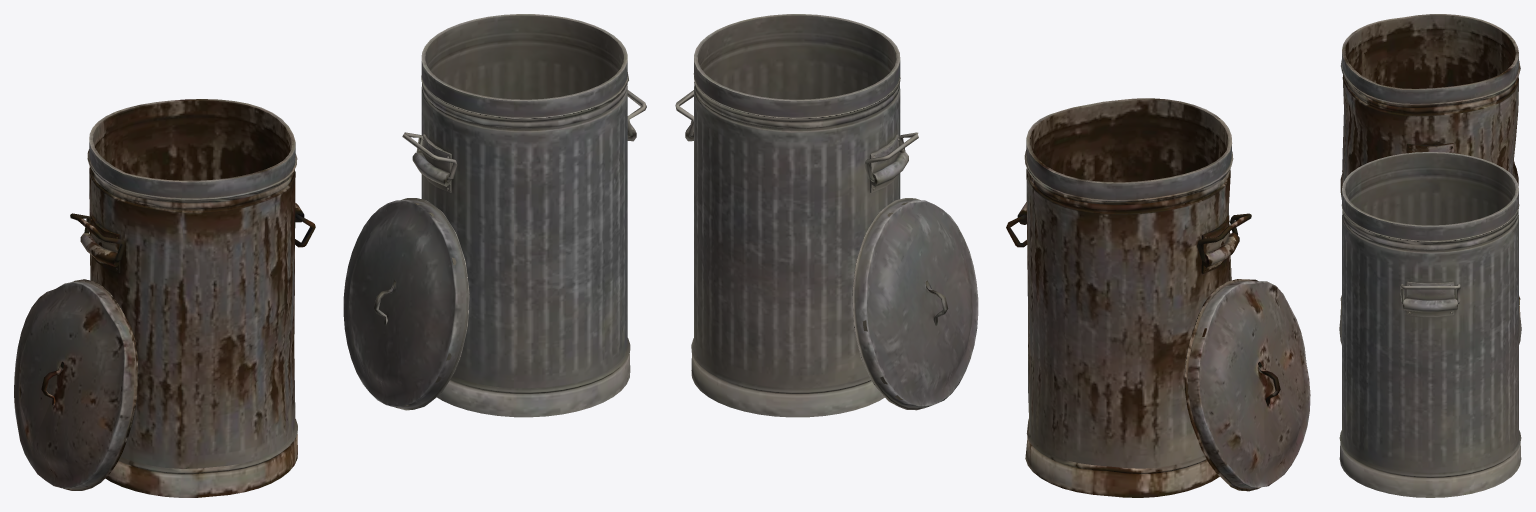
File: metal_trash_can.glb
The picture shows the model from 3 angles, left to right: view 1: azimuth 30°, elevation 25°; view 2: azimuth 150°, elevation 25°; view 3: azimuth 270°, elevation 25°; orthographic projection. The views are drawn at different scales.
Visible parts, largest first — view 1: metal_trash_can_handle_left, metal_trash_can_rust; view 2: metal_trash_can_handle_left, metal_trash_can_rust; view 3: metal_trash_can_handle_left, metal_trash_can_rust.
Boxes of the visible parts, bbox=[...] form: metal_trash_can_handle_left: bbox=[343, 14, 646, 417]; metal_trash_can_rust: bbox=[14, 99, 315, 497]; metal_trash_can_handle_left: bbox=[675, 14, 978, 417]; metal_trash_can_rust: bbox=[1006, 98, 1310, 497]; metal_trash_can_handle_left: bbox=[1339, 152, 1521, 497]; metal_trash_can_rust: bbox=[1340, 14, 1520, 317].
Bounding box in the file's own units: 1.78 × 0.9062 × 0.5543.
Materials: 2 (2 with a texture image).
